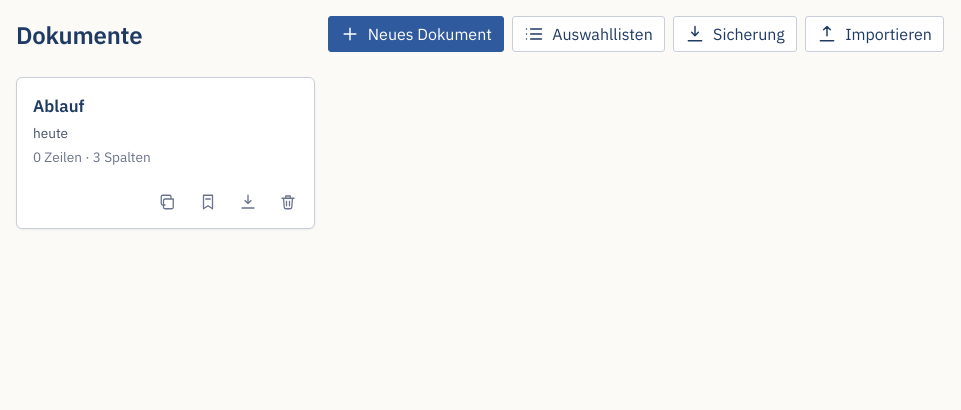
Test: start time › shows a stored value that is not on the list as text
The image size is (961, 410).
Click the text "Ablauf".
click(59, 106)  # box [33,94,84,119]
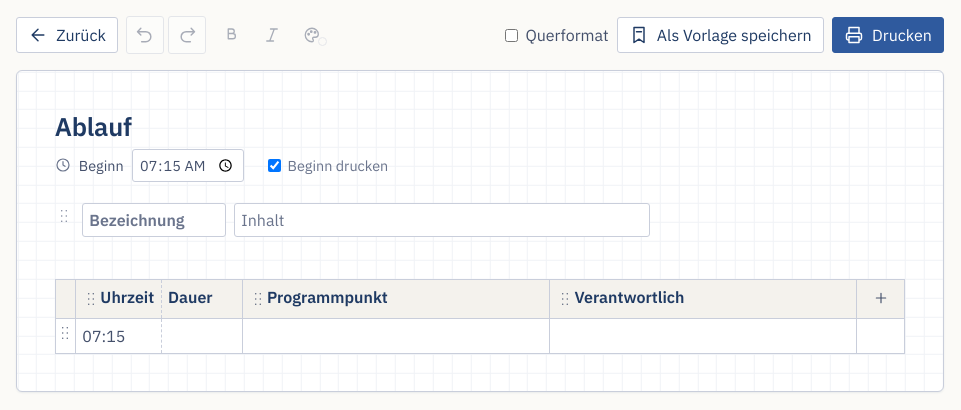
Result: the time field labelled "Beginn" holds "07:15" at [132,149,244,182]
